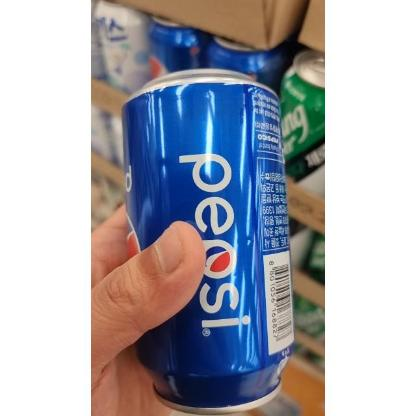Can: (122, 70, 292, 416)
